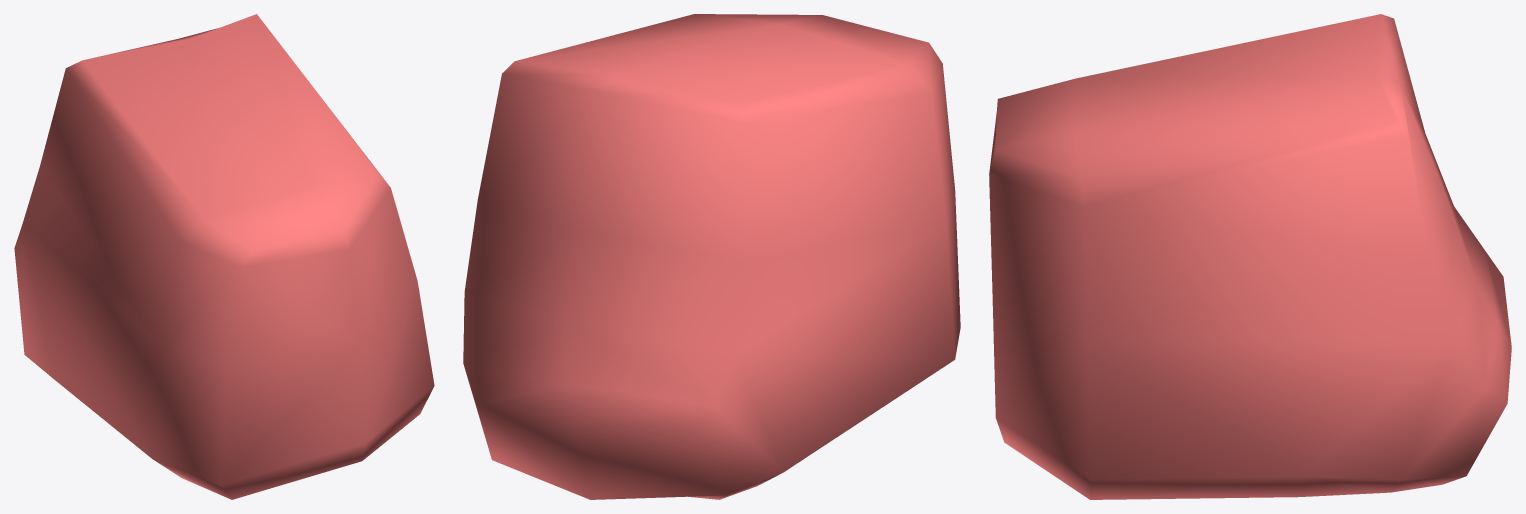
The model's file is Rock05.fbx.
3 views of the same model, side by side, from view 1: azimuth 30°, elevation 25°; view 2: azimuth 150°, elevation 25°; view 3: azimuth 270°, elevation 25° (orthographic). The views are drawn at different scales.
Visible parts, largest first — view 1: Low_Rock05; view 2: Low_Rock05; view 3: Low_Rock05.
Boxes of the visible parts, bbox=[...] form: Low_Rock05: bbox=[14, 14, 434, 499]; Low_Rock05: bbox=[463, 14, 960, 499]; Low_Rock05: bbox=[989, 14, 1511, 499].
Size of the model in its own units: 294 by 321 by 401.
